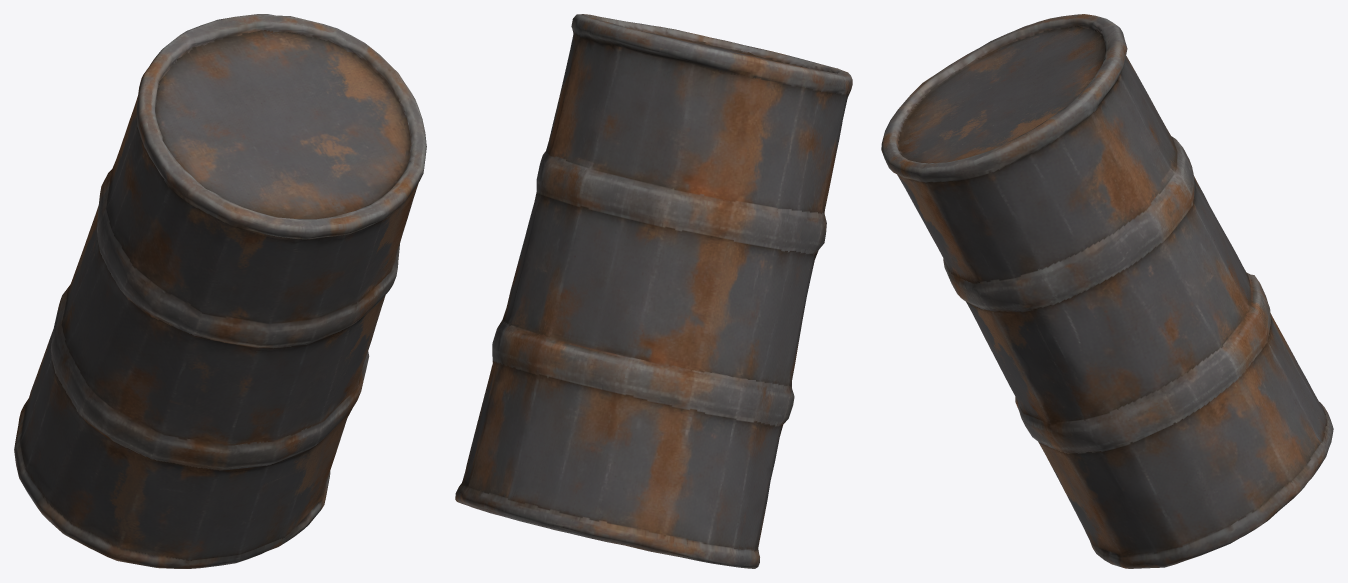
Rendered from oil_barrel_raw.glb.
The picture shows the model from 3 angles, left to right: view 1: azimuth 30°, elevation 25°; view 2: azimuth 150°, elevation 25°; view 3: azimuth 270°, elevation 25°; orthographic projection. The views are drawn at different scales.
Size of the model in its own units: 0.5039 by 0.9035 by 0.747.
Materials: 1 (1 with a texture image).
